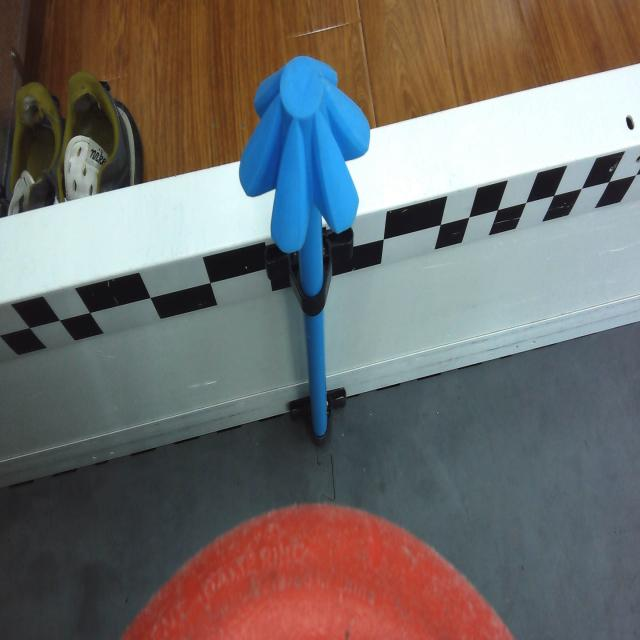zblue-Stake-Head: (240, 55, 371, 249)
